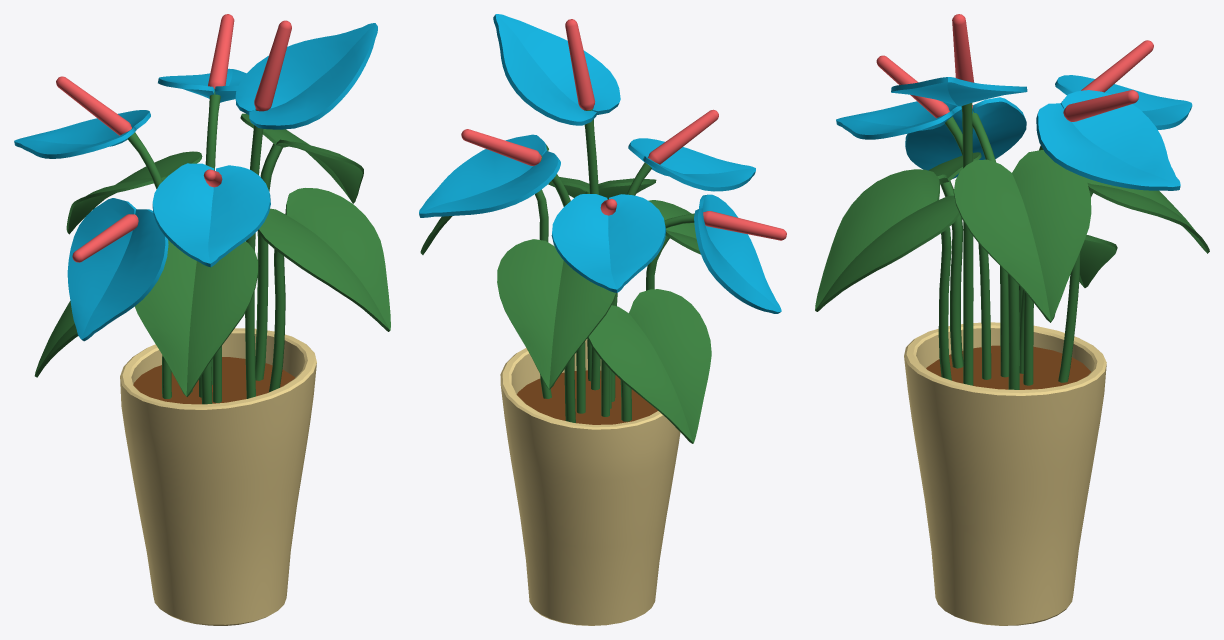
Rendered from pot_plant.glb.
3 views of the same model, side by side, from view 1: azimuth 30°, elevation 25°; view 2: azimuth 150°, elevation 25°; view 3: azimuth 270°, elevation 25° (orthographic). The views are drawn at different scales.
Visible parts, largest first — view 1: Plant15; view 2: Plant15; view 3: Plant15.
Boxes of the visible parts, x1,y1,x2,y2 form: Plant15: [14, 14, 390, 625]; Plant15: [419, 14, 786, 625]; Plant15: [815, 14, 1209, 625].
Size of the model in its own units: 0.4677 by 0.7825 by 0.4627.
Materials: 3 (2 with a texture image).
